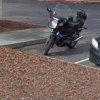Motorcycle: (36, 4, 86, 64)
